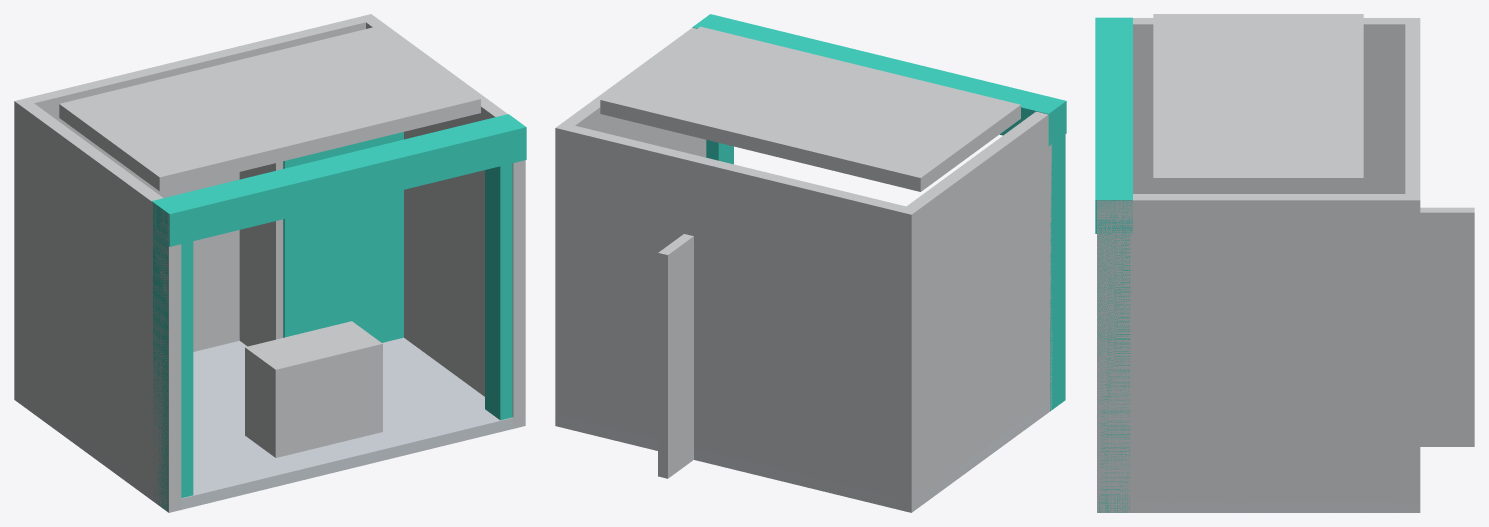
The picture shows the model from 3 angles, left to right: view 1: azimuth 30°, elevation 25°; view 2: azimuth 150°, elevation 25°; view 3: azimuth 270°, elevation 25°; orthographic projection. The views are drawn at different scales.
Visible parts, largest first — view 1: Exhibition Booth Concept; view 2: Exhibition Booth Concept; view 3: Exhibition Booth Concept.
Boxes of the visible parts, bbox=[...] form: Exhibition Booth Concept: bbox=[14, 14, 526, 512]; Exhibition Booth Concept: bbox=[555, 14, 1066, 512]; Exhibition Booth Concept: bbox=[1095, 14, 1474, 512].
Bounding box in the file's own units: 4 × 3.34 × 3.52.
